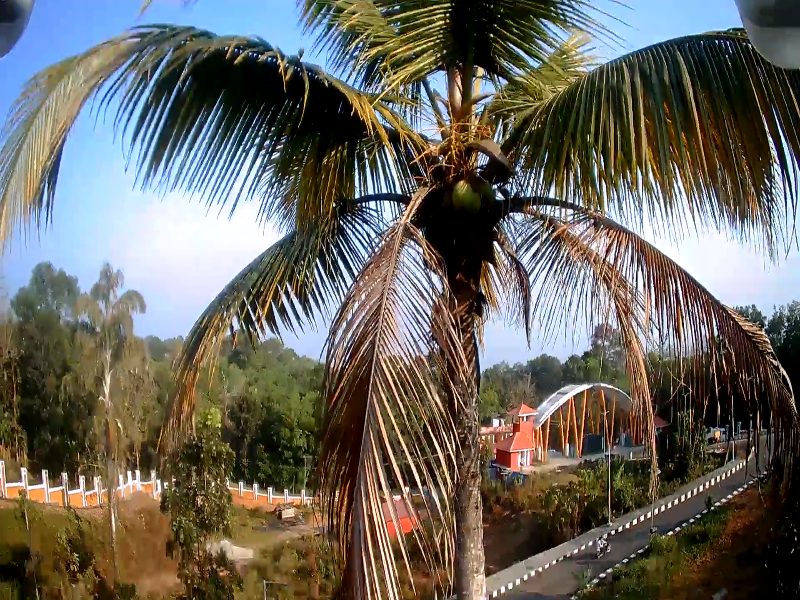coconut: (442, 174, 490, 213)
